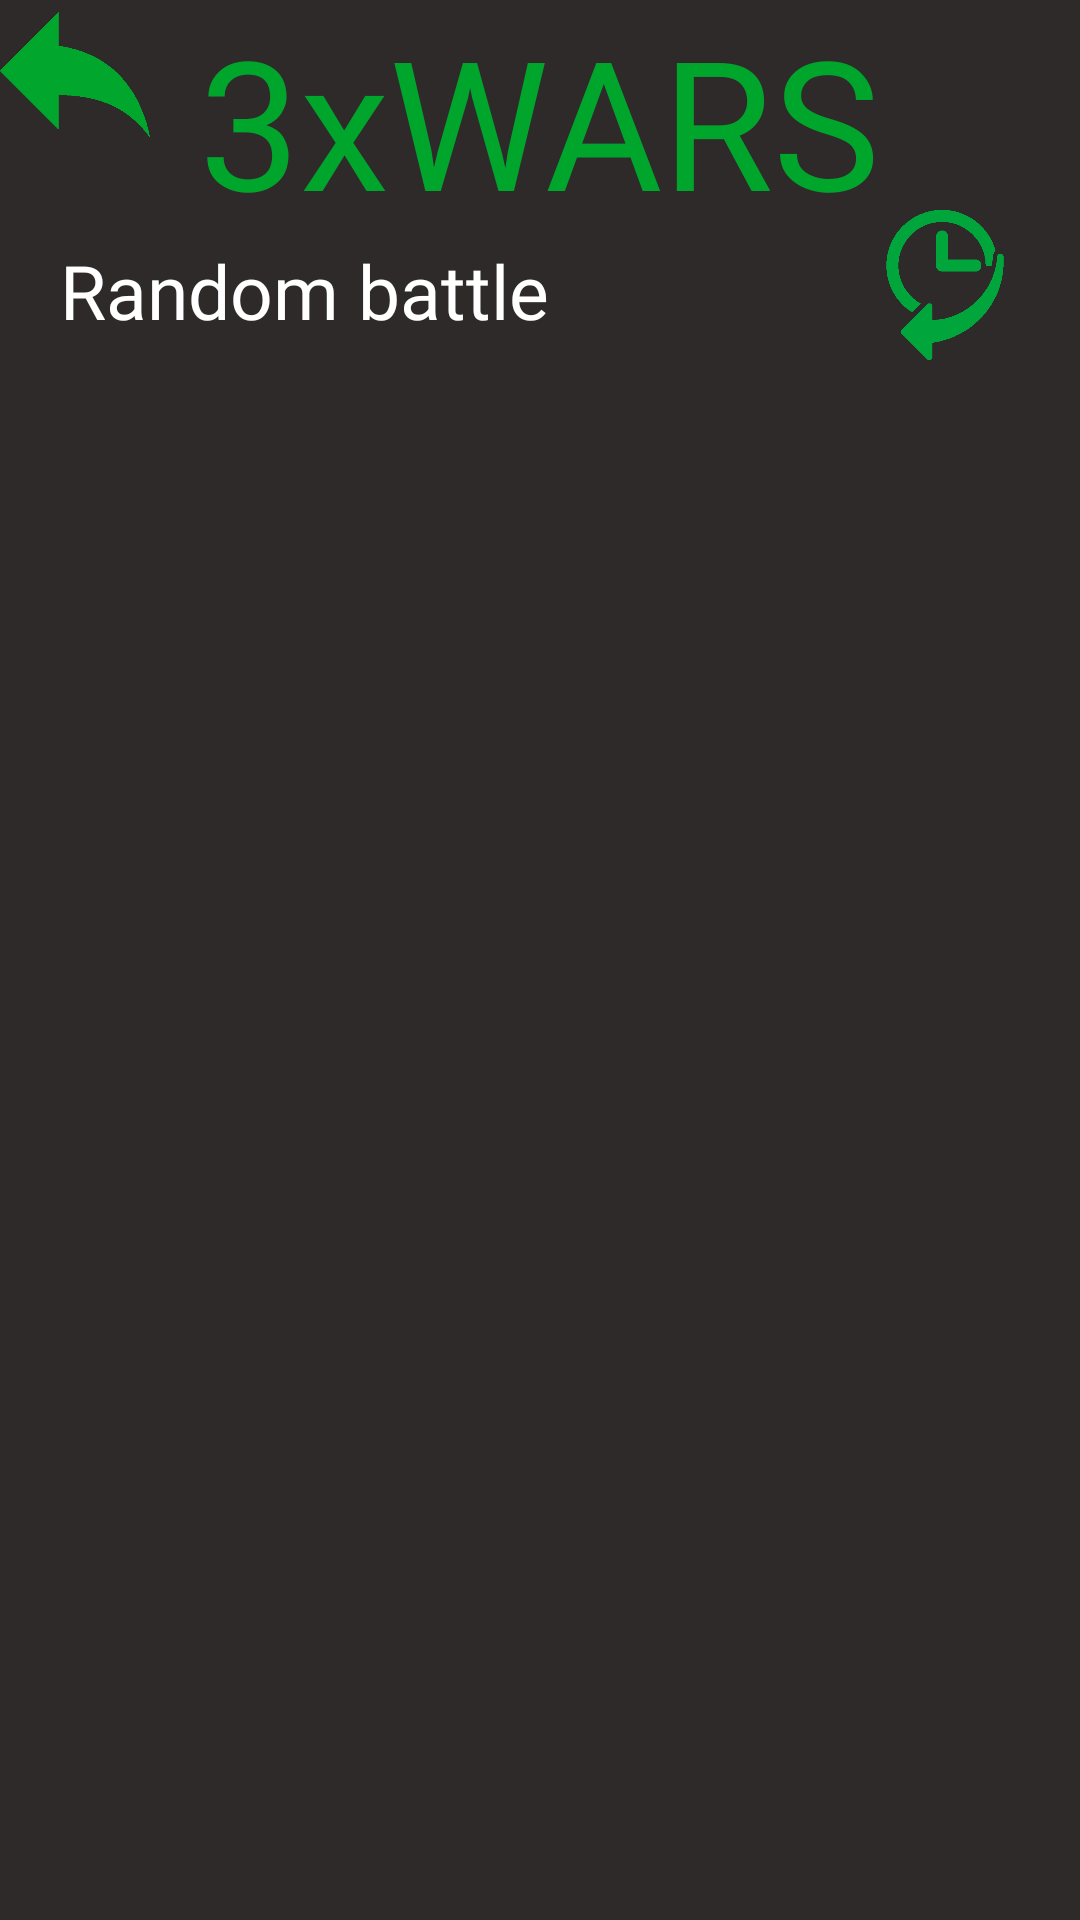

Icons on this 1080 x 1920 Android screen, each with its box as (x1, y1, x2, y2):
flecha: (0, 12, 150, 137)
historial: (886, 210, 1004, 360)
